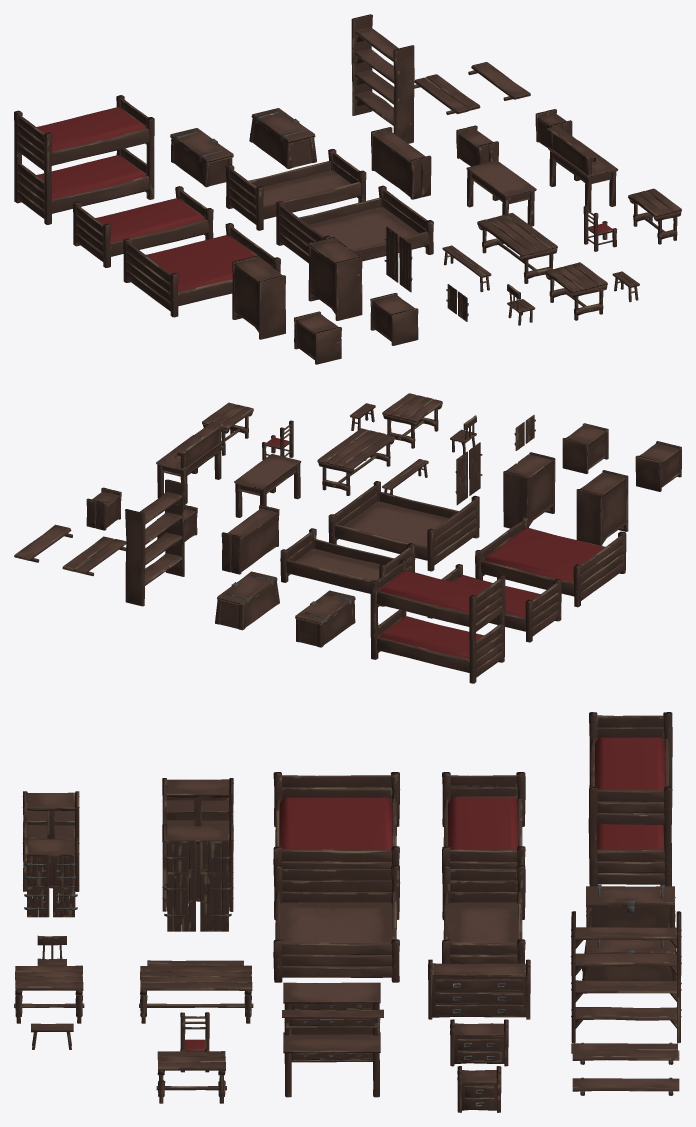
Rendered from furniture_set.glb.
The picture shows the model from 3 angles, top to bottom: view 1: azimuth 30°, elevation 25°; view 2: azimuth 150°, elevation 25°; view 3: azimuth 270°, elevation 25°; orthographic projection. The views are drawn at different scales.
Visible parts, largest first — view 1: defaultobject; view 2: defaultobject; view 3: defaultobject.
Part boxes in pixels (left/top/right/bottom): defaultobject: left=14, top=14, right=681, bottom=364; defaultobject: left=14, top=393, right=681, bottom=683; defaultobject: left=14, top=712, right=681, bottom=1112.
Bounding box in the file's own units: 93.98 × 18.3 × 90.94.
Materials: 1 (1 with a texture image).
